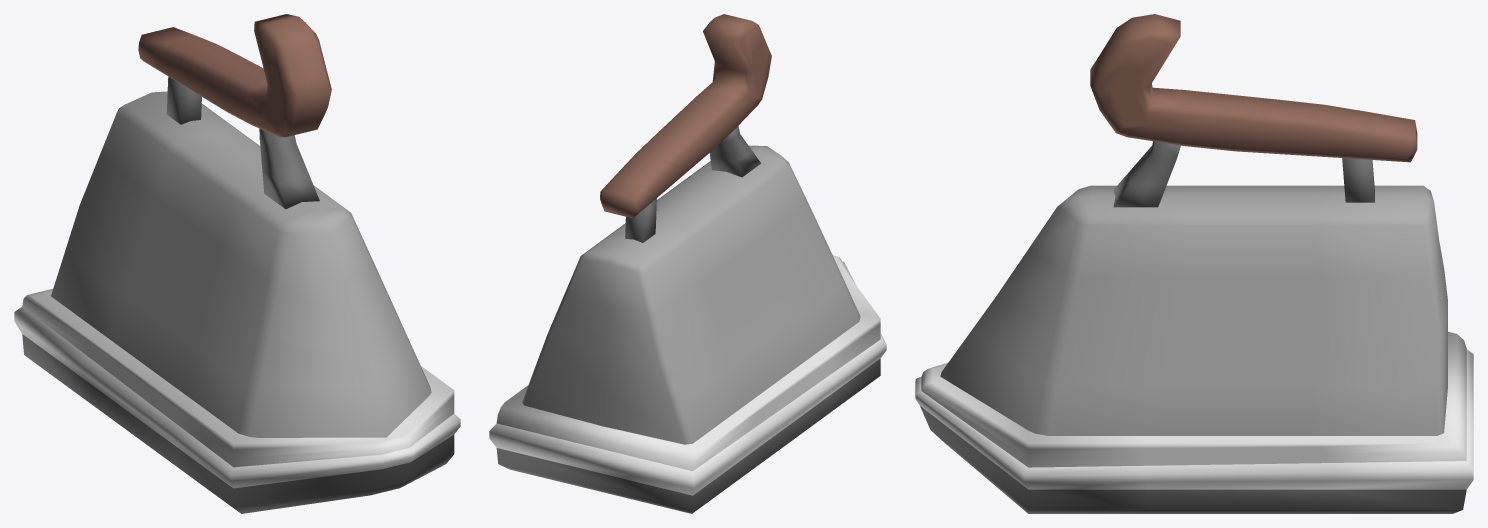
File: props_iron.fbx
The picture shows the model from 3 angles, left to right: view 1: azimuth 30°, elevation 25°; view 2: azimuth 150°, elevation 25°; view 3: azimuth 270°, elevation 25°; orthographic projection. The views are drawn at different scales.
Parts seen in each view (by area): view 1: Iron; view 2: Iron; view 3: Iron.
Part boxes in pixels (bbox=[...]): Iron: bbox=[14, 14, 460, 513]; Iron: bbox=[489, 14, 886, 513]; Iron: bbox=[915, 14, 1473, 513].
Size of the model in its own units: 34.02 by 59.89 by 68.91.
